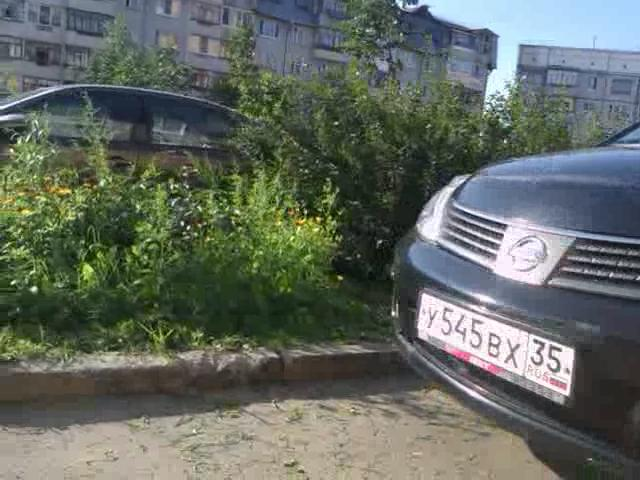car license plate: (413, 288, 576, 407)
